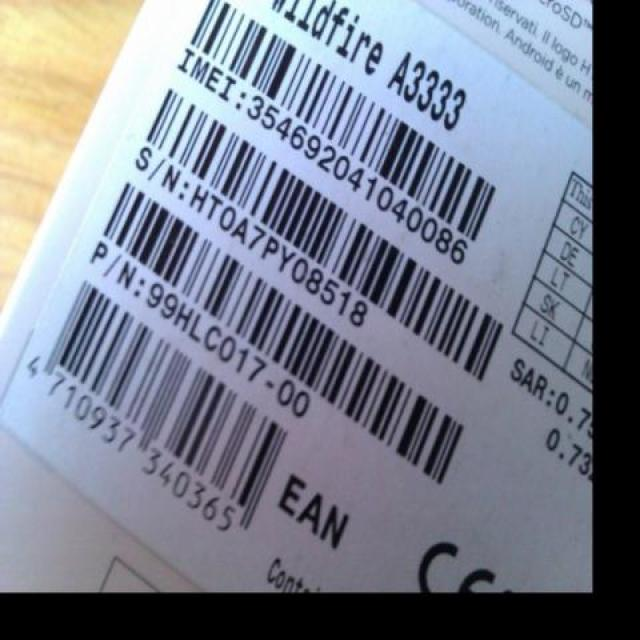Barcode: (28, 270, 301, 558)
